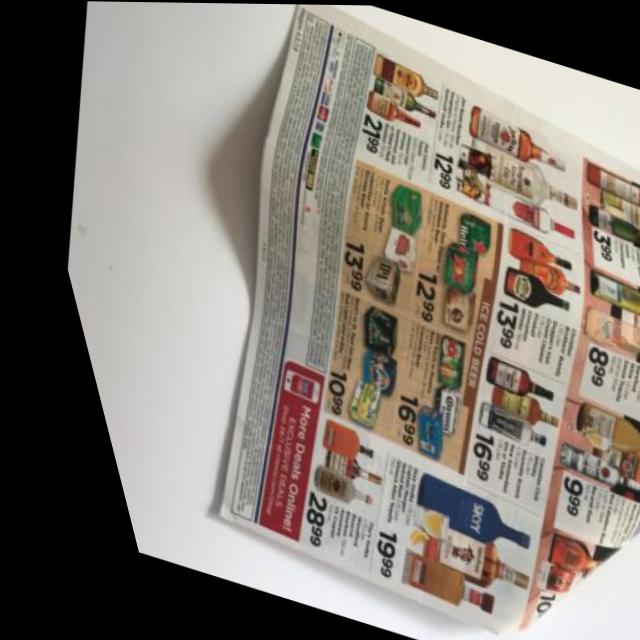paper: (49, 1, 640, 640)
